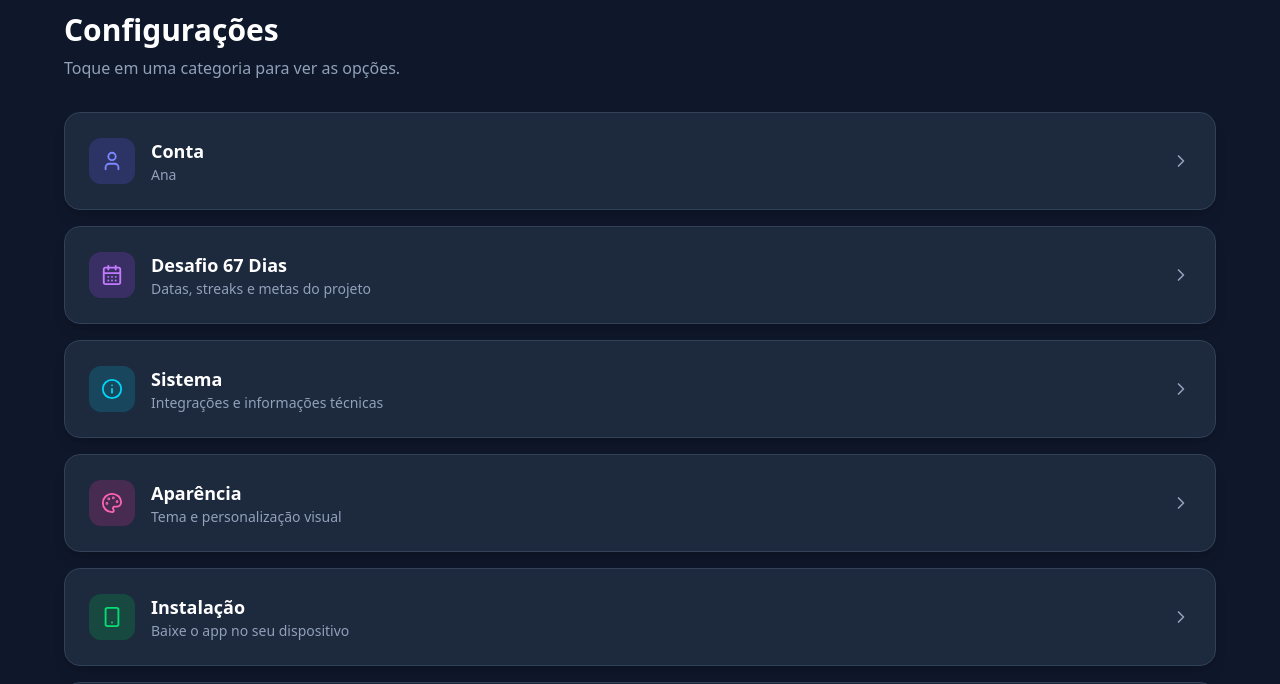
Test: SettingsView - Desafio 67 Dias › shows a countdown before the journey starts
Click the button "Desafio 67 Dias Datas, streaks e metas do projeto": coordinates (112, 275) [65,227,1215,323]
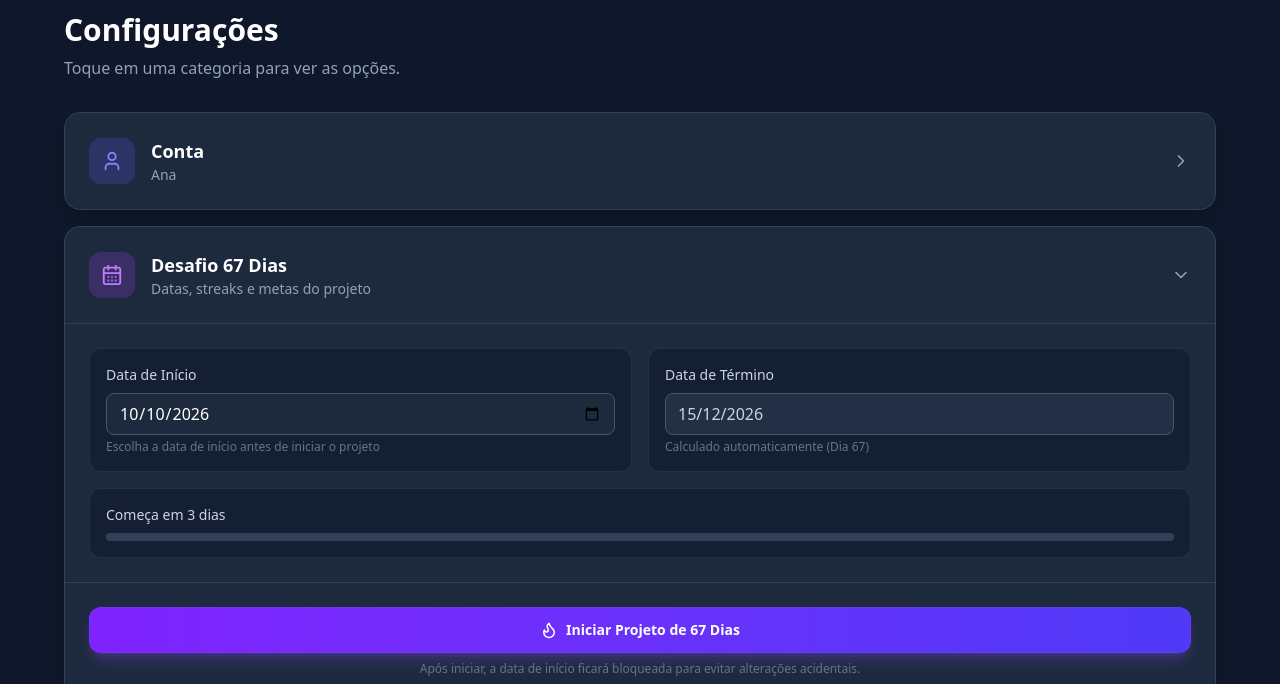
Expected: the text "Começa em 3 dias" is shown, [106,505,226,525]
